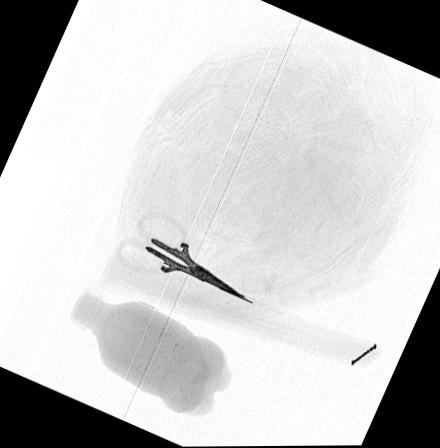Scissors: (114, 207, 257, 304)
